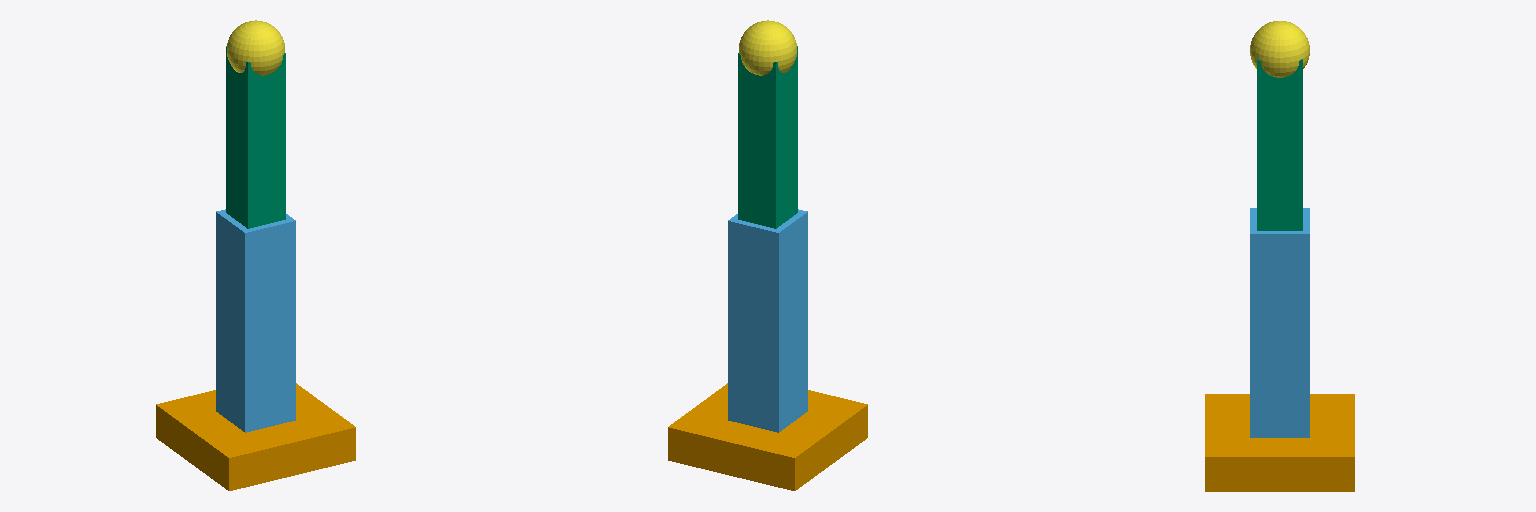
The robot description file, URDF, robot "test_arm":
<?xml version="1.0"?>
<robot name="test_arm">

  <!-- Base link: fixed to world, root link (no mass required) -->
  <link name="base_link">
    <visual>
      <geometry>
        <box size="0.2 0.2 0.05"/>
      </geometry>
      <origin xyz="0 0 0.025" rpy="0 0 0"/>
    </visual>
    <collision>
      <geometry>
        <box size="0.2 0.2 0.05"/>
      </geometry>
      <origin xyz="0 0 0.025" rpy="0 0 0"/>
    </collision>
  </link>

  <!-- Shoulder link: 0.5 kg box -->
  <link name="shoulder_link">
    <inertial>
      <mass value="0.5"/>
      <origin xyz="0 0 0.15" rpy="0 0 0"/>
      <inertia ixx="0.004" ixy="0.0" ixz="0.0"
               iyy="0.004" iyz="0.0" izz="0.001"/>
    </inertial>
    <visual>
      <geometry>
        <box size="0.08 0.08 0.3"/>
      </geometry>
      <origin xyz="0 0 0.15" rpy="0 0 0"/>
    </visual>
    <collision>
      <geometry>
        <box size="0.08 0.08 0.3"/>
      </geometry>
      <origin xyz="0 0 0.15" rpy="0 0 0"/>
    </collision>
  </link>

  <!-- Forearm link: 0.3 kg box -->
  <link name="forearm_link">
    <inertial>
      <mass value="0.3"/>
      <origin xyz="0 0 0.125" rpy="0 0 0"/>
      <inertia ixx="0.002" ixy="0.0" ixz="0.0"
               iyy="0.002" iyz="0.0" izz="0.0005"/>
    </inertial>
    <visual>
      <geometry>
        <box size="0.06 0.06 0.25"/>
      </geometry>
      <origin xyz="0 0 0.125" rpy="0 0 0"/>
    </visual>
    <collision>
      <geometry>
        <box size="0.06 0.06 0.25"/>
      </geometry>
      <origin xyz="0 0 0.125" rpy="0 0 0"/>
    </collision>
  </link>

  <!-- Hand link: 0.1 kg sphere -->
  <link name="hand_link">
    <inertial>
      <mass value="0.1"/>
      <origin xyz="0 0 0" rpy="0 0 0"/>
      <inertia ixx="0.0001" ixy="0.0" ixz="0.0"
               iyy="0.0001" iyz="0.0" izz="0.0001"/>
    </inertial>
    <visual>
      <geometry>
        <sphere radius="0.04"/>
      </geometry>
    </visual>
    <collision>
      <geometry>
        <sphere radius="0.04"/>
      </geometry>
    </collision>
  </link>

  <!-- Shoulder joint: revolute about Z (yaw) -->
  <joint name="shoulder_yaw" type="revolute">
    <parent link="base_link"/>
    <child link="shoulder_link"/>
    <origin xyz="0 0 0.05" rpy="0 0 0"/>
    <axis xyz="0 0 1"/>
    <limit lower="-1.5708" upper="1.5708" effort="10.0" velocity="2.0"/>
    <dynamics damping="0.5" friction="0.1"/>
  </joint>

  <!-- Elbow joint: revolute about Y (pitch) -->
  <joint name="elbow_pitch" type="revolute">
    <parent link="shoulder_link"/>
    <child link="forearm_link"/>
    <origin xyz="0 0 0.3" rpy="0 0 0"/>
    <axis xyz="0 1 0"/>
    <limit lower="-1.5708" upper="1.5708" effort="8.0" velocity="2.0"/>
    <dynamics damping="0.3" friction="0.05"/>
  </joint>

  <!-- Wrist joint: revolute about Z -->
  <joint name="wrist_roll" type="revolute">
    <parent link="forearm_link"/>
    <child link="hand_link"/>
    <origin xyz="0 0 0.25" rpy="0 0 0"/>
    <axis xyz="0 0 1"/>
    <limit lower="-3.14159" upper="3.14159" effort="5.0" velocity="3.0"/>
    <dynamics damping="0.1" friction="0.02"/>
  </joint>

</robot>

--- Facts derived from the render (not from the file) ---
Views: 3 orthographic renders of the robot side by side, from view 1: azimuth 30°, elevation 25°; view 2: azimuth 150°, elevation 25°; view 3: azimuth 270°, elevation 25°.
Model test_arm with 4 links and 3 joints (3 revolute), rooted at base_link, posed every joint at zero.
Visible links, largest first — view 1: shoulder_link, base_link, forearm_link, hand_link; view 2: shoulder_link, base_link, forearm_link, hand_link; view 3: shoulder_link, base_link, forearm_link, hand_link.
Link boxes in pixels (x1,y1,x2,y2): shoulder_link: [216, 209, 295, 432]; base_link: [156, 383, 355, 490]; forearm_link: [226, 46, 285, 228]; hand_link: [227, 20, 284, 75]; shoulder_link: [728, 209, 807, 432]; base_link: [668, 383, 867, 490]; forearm_link: [738, 46, 797, 228]; hand_link: [739, 20, 796, 75]; shoulder_link: [1250, 208, 1309, 437]; base_link: [1205, 394, 1354, 491]; forearm_link: [1257, 59, 1302, 230]; hand_link: [1250, 21, 1309, 77].
Size in the robot's own frame: 0.2 by 0.2 by 0.64 metres.
Geometry: primitives only (box / cylinder / sphere), no mesh files.
